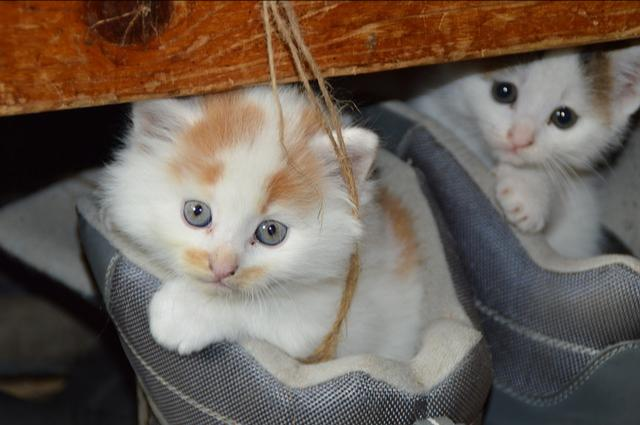cat: (79, 81, 482, 394), (386, 41, 639, 259)
